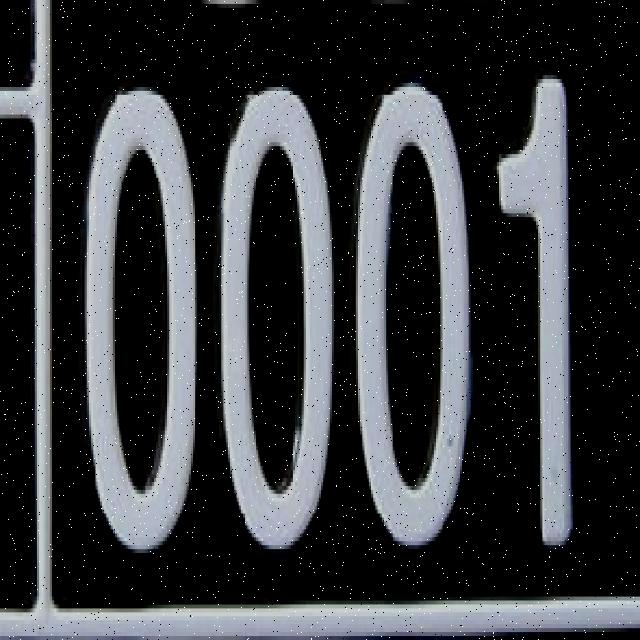licenseplate: (0, 1, 640, 604)
